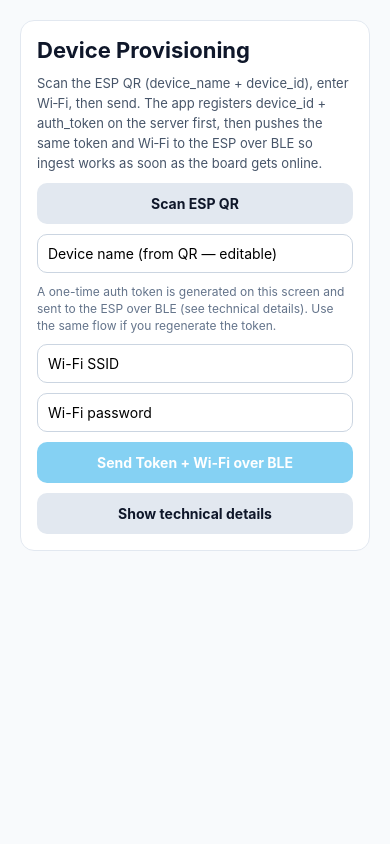
Test: ProvisionDeviceScreen › closes the scanner modal
Click the text "Scan ESP QR": (195, 204) [151,195,239,212]
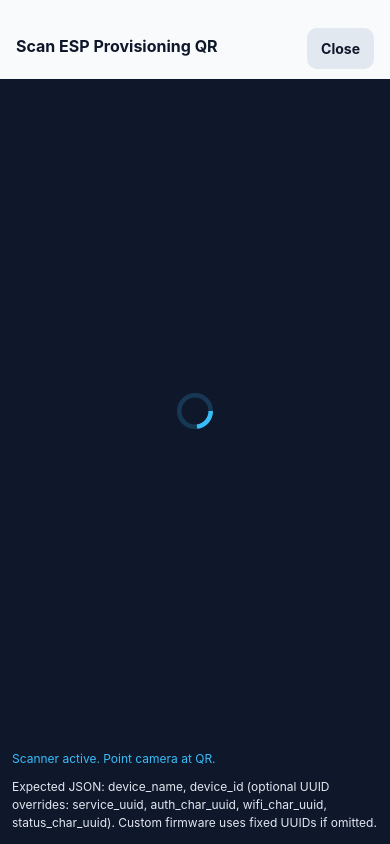
Expected: the text "Scan ESP Provisioning QR" is shown, [16,36,218,56]
Click the text "Close": (341, 48) [321,40,360,57]
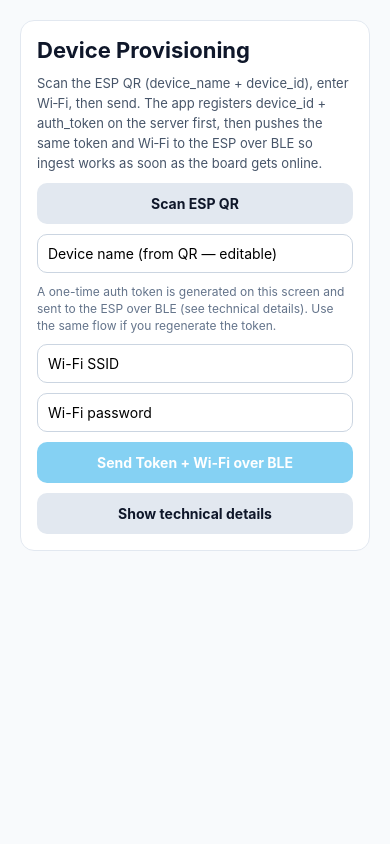
Expected: the text "Scan ESP Provisioning QR" is gone
